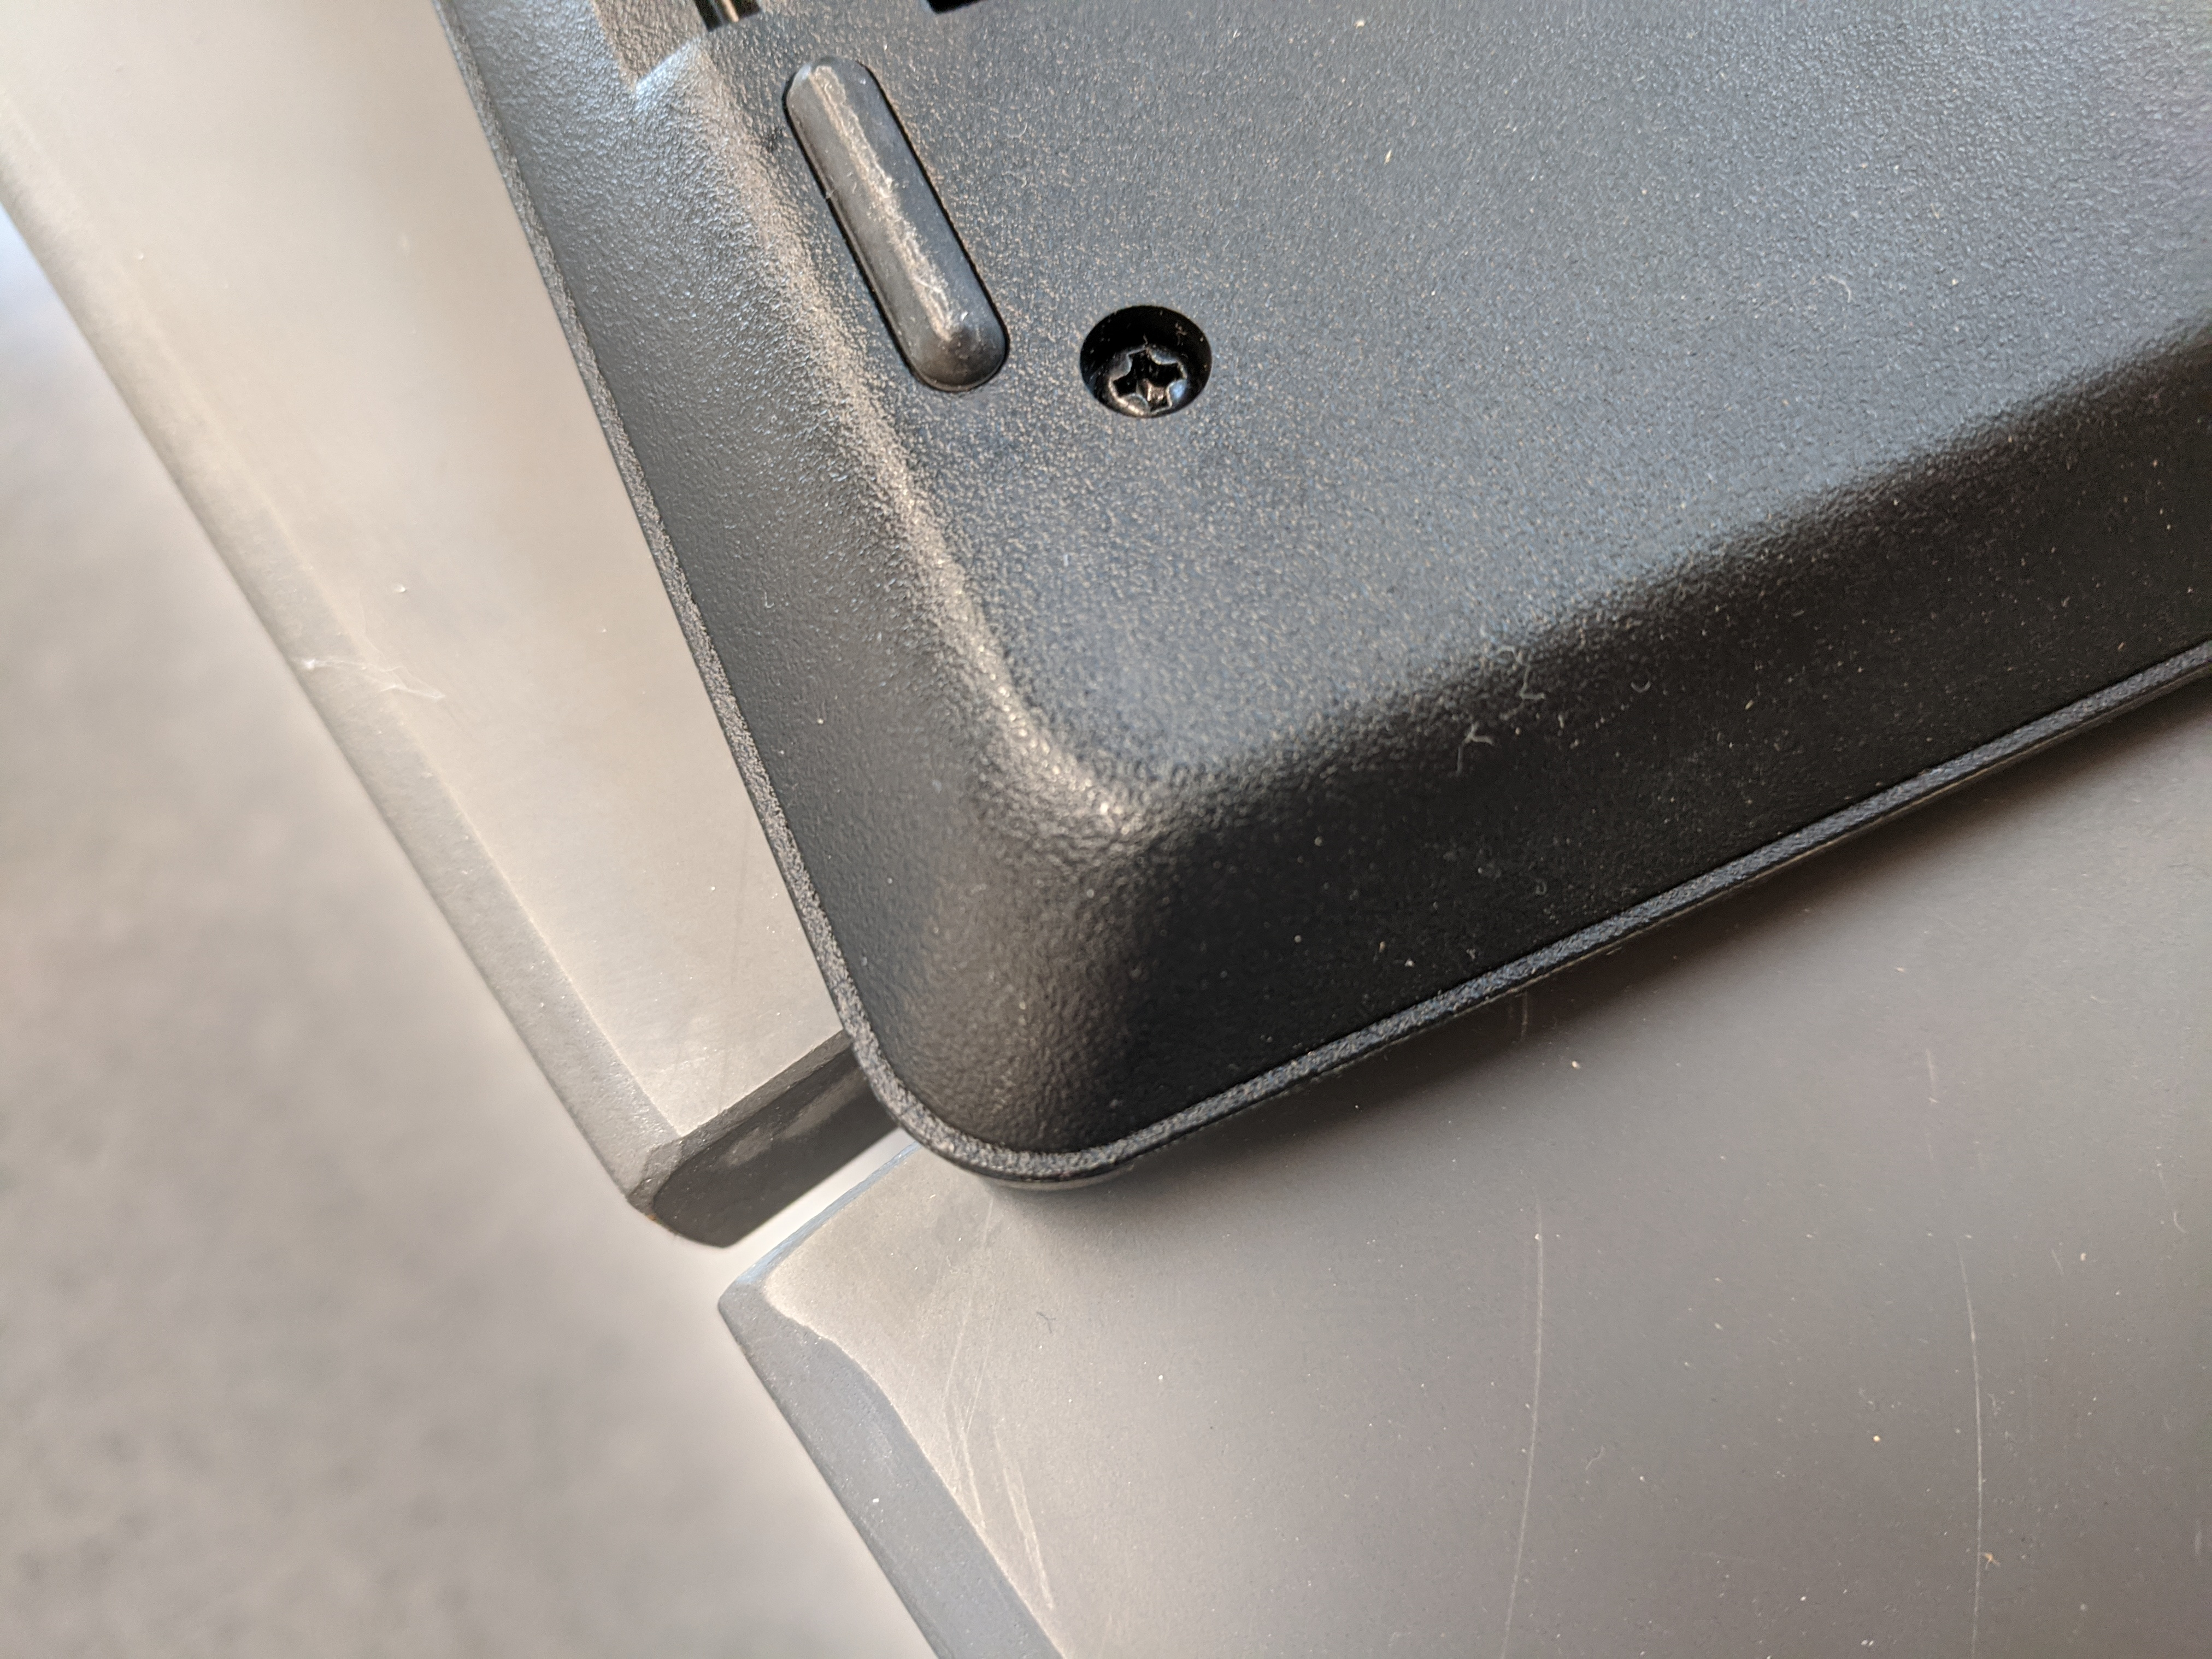cross_recessed_screw: (1094, 288, 1200, 425)
